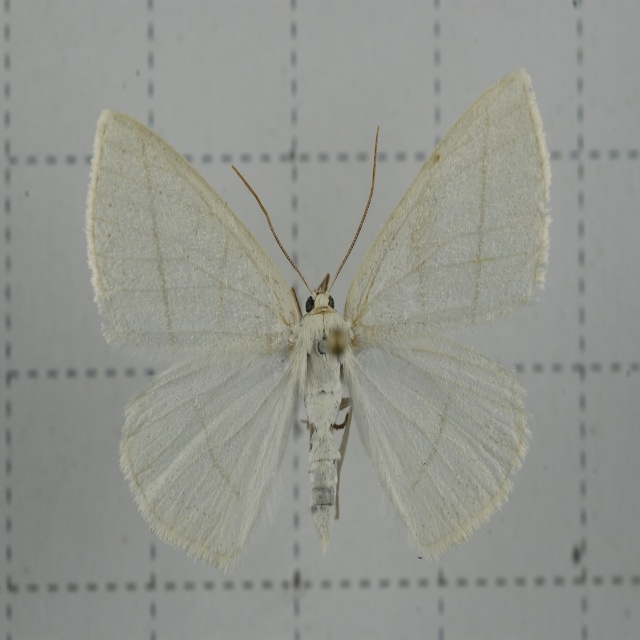Butterfly: (75, 79, 555, 589)
